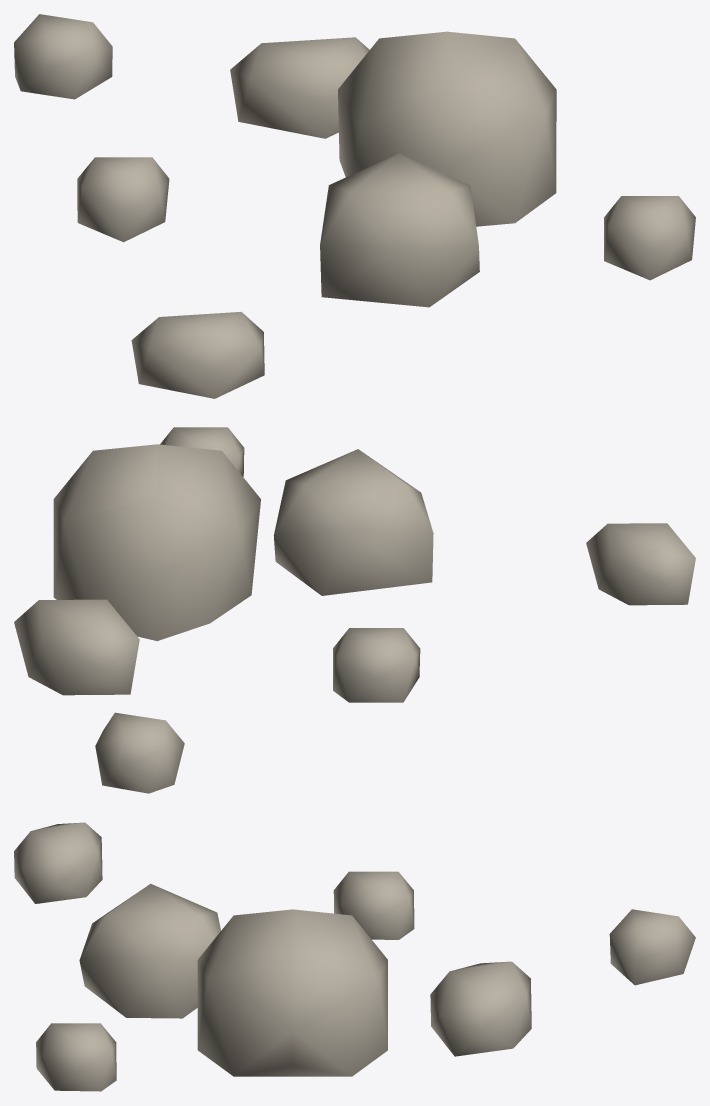
Rendered from SM_Stone_01.fbx.
The picture shows the model from 3 angles, top to bottom: view 1: azimuth 30°, elevation 25°; view 2: azimuth 150°, elevation 25°; view 3: azimuth 270°, elevation 25°; orthographic projection. The views are drawn at different scales.
Visible parts, largest first — view 1: SM_Stone_01; view 2: SM_Stone_01; view 3: SM_Stone_01.
Part boxes in pixels (left/top/right/bottom): SM_Stone_01: left=14, top=14, right=695, bottom=398; SM_Stone_01: left=14, top=427, right=695, bottom=793; SM_Stone_01: left=14, top=822, right=695, bottom=1091.
Bounding box in the file's own units: 61.47 × 16.31 × 74.59.
1 material, 1 textured.
